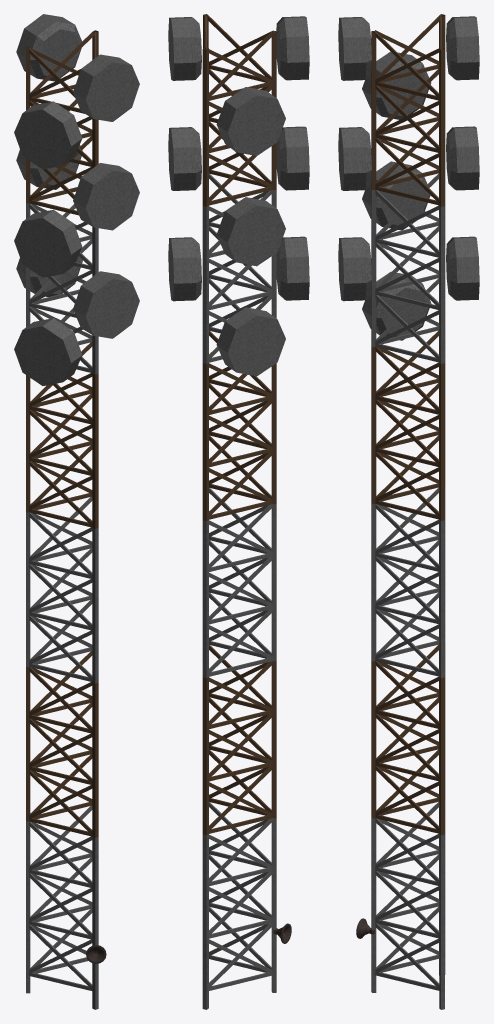
File: RadioTower.fbx
3 views of the same model, side by side, from view 1: azimuth 90°, elevation 25°; view 2: azimuth 150°, elevation 25°; view 3: azimuth 330°, elevation 25° (orthographic).
Visible parts, largest first — view 1: Cube, Cylinder.007, Cube.008; view 2: Cube, Cylinder.007; view 3: Cube, Cylinder.007.
Boxes of the visible parts, left/top/right/bottom form: Cube: left=26, top=30, right=98, bottom=1009; Cylinder.007: left=14, top=14, right=139, bottom=385; Cube.008: left=86, top=945, right=106, bottom=963; Cube: left=202, top=14, right=276, bottom=1009; Cylinder.007: left=168, top=16, right=309, bottom=376; Cube: left=371, top=14, right=445, bottom=1009; Cylinder.007: left=338, top=16, right=479, bottom=340.
Bounding box in the file's own units: 1016 × 7073 × 843.
